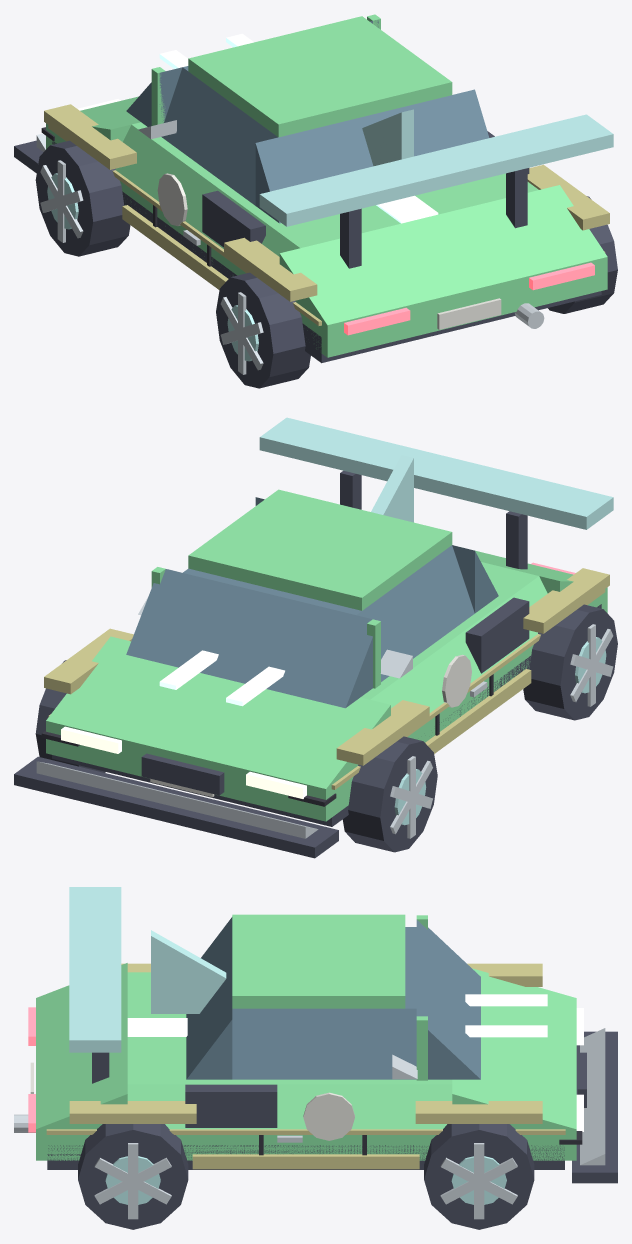
The model's file is velocity_viper.glb.
3 views of the same model, one above another, from view 1: azimuth 30°, elevation 25°; view 2: azimuth 150°, elevation 25°; view 3: azimuth 270°, elevation 25° (orthographic). The views are drawn at different scales.
Parts seen in each view (by area): view 1: Tail.079, Roof.279, RearWing.042, RearWindow.179, Body.279, CabinSideL.076, Wheel_RL.239, Wheel_FL.239, BodyUpper.076, ShoulderL.076, Sill.275, Arch-1False.155 (+25 smaller); view 2: Nose.076, Windshield.179, Roof.279, RearWing.042, Body.279, Splitter.046, CabinSideL.076, Wheel_FL.239, Wheel_RL.239, ShoulderL.076, Bumper.275, AirIntake-1.042 (+23 smaller); view 3: Roof.279, CabinSideR.076, Nose.076, RearWing.042, Tail.079, Windshield.179, Body.279, ShoulderR.076, Wheel_FR.239, Wheel_RR.239, BodyUpper.076, RearWindow.179 (+26 smaller).
Boxes of the visible parts, x1,y1,x2,y2 form: Tail.079: (279, 185, 607, 325); Roof.279: (188, 16, 452, 137); RearWing.042: (259, 114, 613, 226); RearWindow.179: (255, 89, 489, 223); Body.279: (46, 123, 607, 357); CabinSideL.076: (161, 67, 277, 205); Wheel_RL.239: (216, 272, 310, 388); Wheel_FL.239: (35, 140, 130, 256); BodyUpper.076: (132, 122, 538, 247); ShoulderL.076: (115, 124, 299, 256); Sill.275: (52, 140, 601, 363); Arch-1False.155: (44, 104, 136, 169); Nose.076: (46, 636, 390, 788); Windshield.179: (126, 569, 372, 708); Roof.279: (188, 489, 452, 610); RearWing.042: (259, 417, 613, 529); Body.279: (46, 587, 607, 821); Splitter.046: (14, 756, 338, 858); CabinSideL.076: (356, 545, 474, 681); Wheel_FL.239: (342, 736, 437, 852); Wheel_RL.239: (523, 604, 617, 720); ShoulderL.076: (370, 576, 547, 712); Bumper.275: (36, 761, 318, 838); AirIntake-1.042: (465, 597, 529, 673); Roof.279: (232, 914, 405, 1008); CabinSideR.076: (232, 1008, 416, 1079); Nose.076: (452, 968, 576, 1129); RearWing.042: (69, 887, 121, 1052); Tail.079: (36, 963, 127, 1129); Windshield.179: (416, 920, 480, 1079); Body.279: (36, 1129, 576, 1160); ShoulderR.076: (127, 1084, 452, 1129); Wheel_FR.239: (424, 1124, 534, 1229); Wheel_RR.239: (78, 1124, 188, 1229); BodyUpper.076: (127, 972, 452, 1084); RearWindow.179: (186, 917, 232, 1079).
Bounding box in the file's own units: 3.4 × 2.08 × 5.25.
